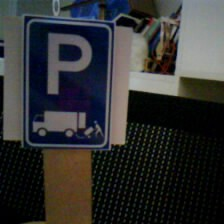load: (19, 11, 117, 154)
